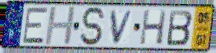B: (165, 9, 194, 47)
E: (22, 7, 49, 45)
H: (44, 5, 78, 47), (139, 9, 168, 47)
S: (79, 5, 107, 48)
V: (110, 9, 135, 45)
